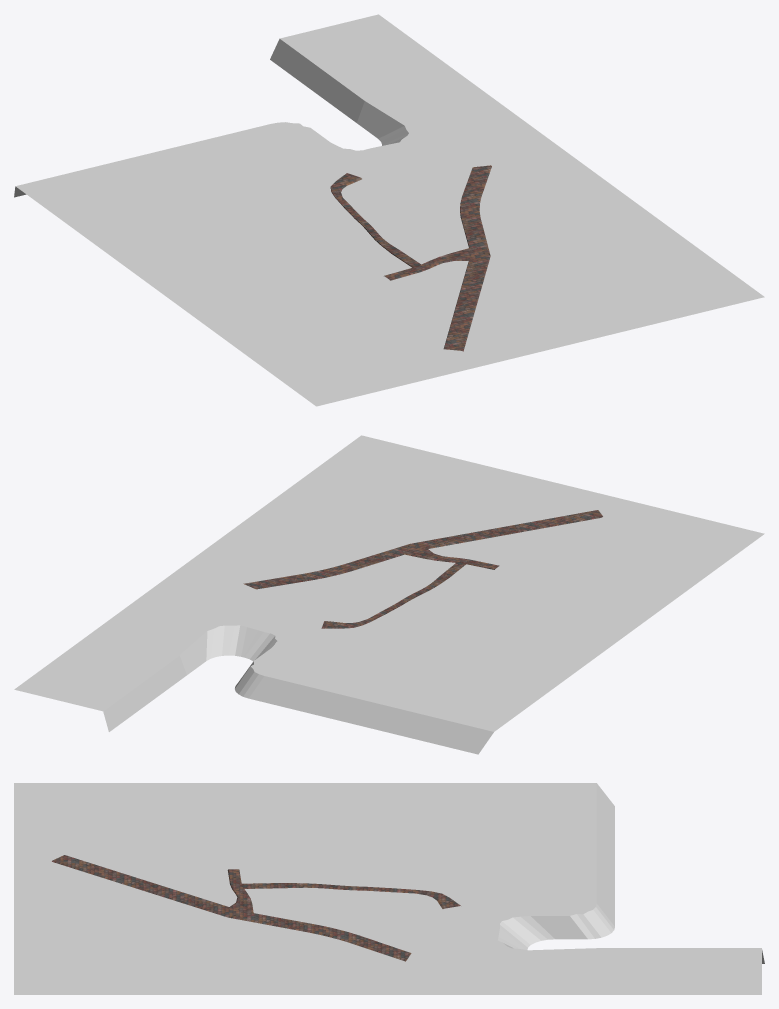
Rendered from GroundPlane.fbx.
3 views of the same model, one above another, from view 1: azimuth 30°, elevation 25°; view 2: azimuth 150°, elevation 25°; view 3: azimuth 270°, elevation 25° (orthographic). The views are drawn at different scales.
Parts seen in each view (by area): view 1: Ground, Plane; view 2: Ground, Plane; view 3: Ground, Plane.
Boxes of the visible parts, x1=… form: Ground: x1=14, y1=14, x2=764, y2=406; Plane: x1=330, y1=165, x2=491, y2=351; Ground: x1=14, y1=435, x2=764, y2=754; Plane: x1=243, y1=510, x2=602, y2=628; Ground: x1=14, y1=783, x2=764, y2=994; Plane: x1=52, y1=855, x2=460, y2=961.
Size of the model in its own units: 43459 by 1943 by 65085.
